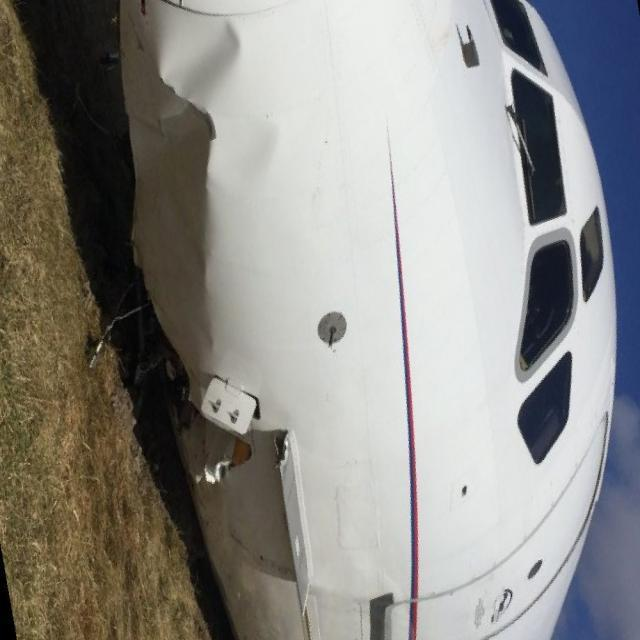dent: (164, 14, 248, 97), (224, 117, 284, 181)
